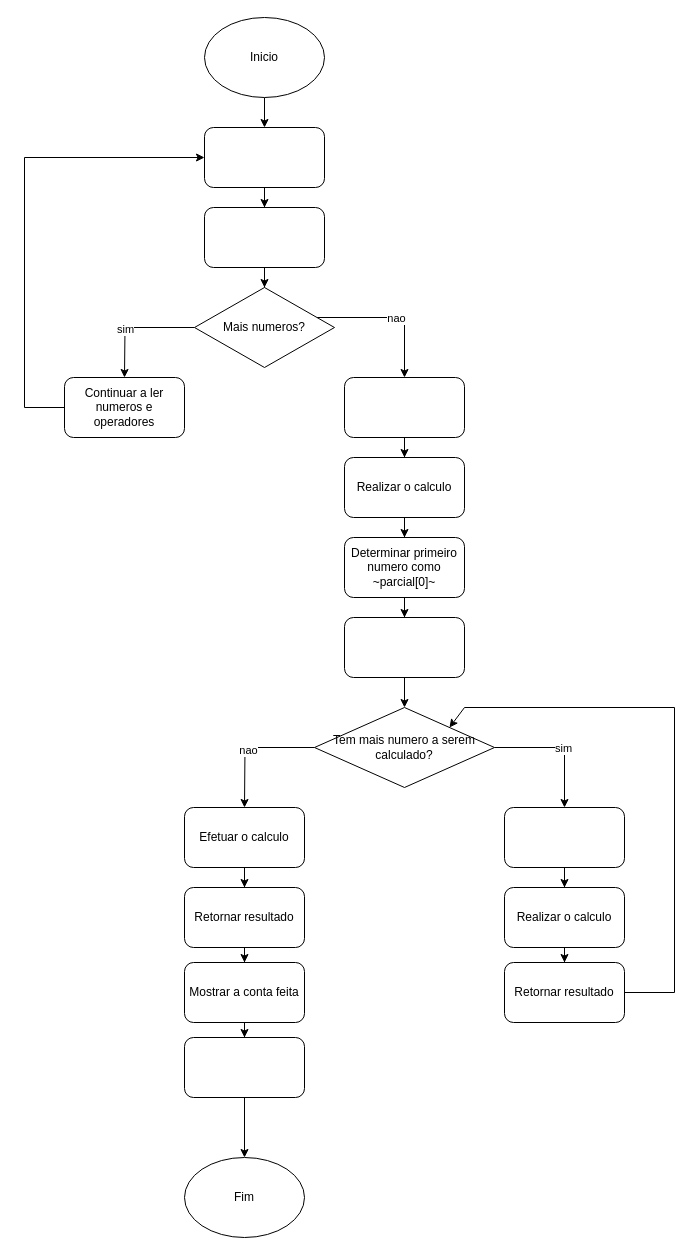
This 700x1255 diagram has some shape labels left out. Here are the shapes that lost their labels. From the top down, the centre of each, then its label:
At [264,157]: "Ler numero".
At [264,237]: "Ler operador".
At [404,407]: "Determinado operador necessario".
At [404,647]: "Determinar numero que sera calculado".
At [564,837]: "Redirecionar somente o valor certo para a operacao".
At [244,1067]: "Mostrar o resultado".
